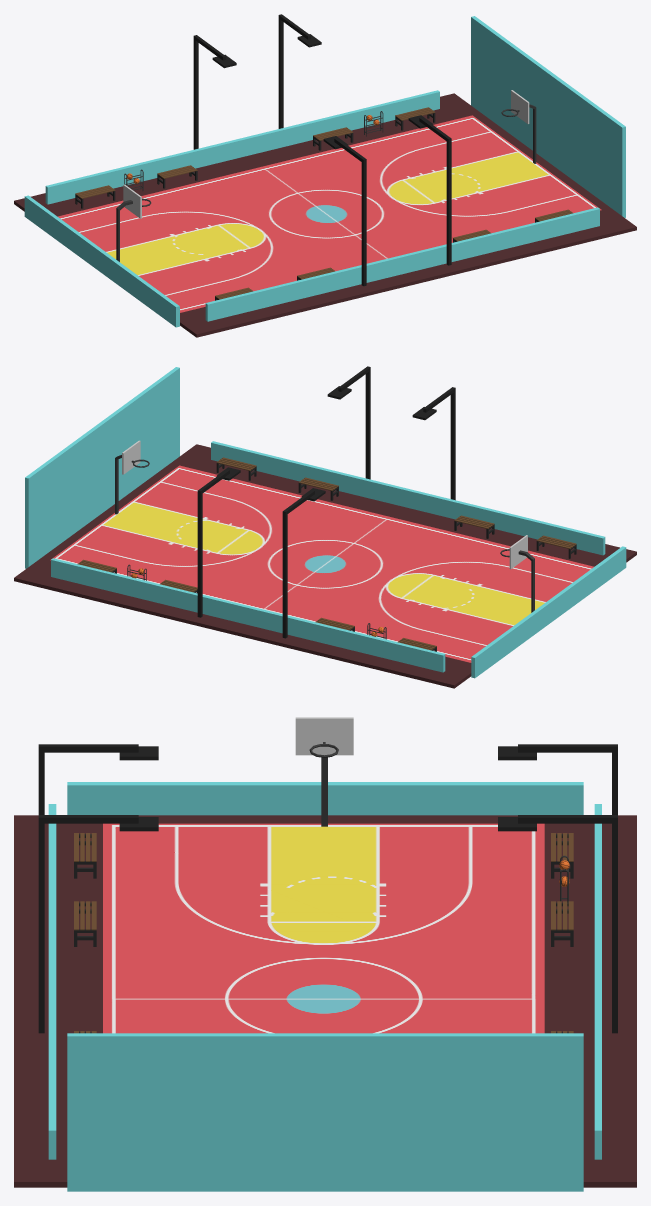
The model's file is D1_BASKETBALL_COURT.fbx.
3 views of the same model, one above another, from view 1: azimuth 30°, elevation 25°; view 2: azimuth 150°, elevation 25°; view 3: azimuth 270°, elevation 25° (orthographic). The views are drawn at different scales.
Visible parts, largest first — view 1: D1_CANCHA_BASKETBALL; view 2: D1_CANCHA_BASKETBALL; view 3: D1_CANCHA_BASKETBALL.
Part boxes in pixels (x1=…): D1_CANCHA_BASKETBALL: x1=14, y1=14, x2=636, y2=337; D1_CANCHA_BASKETBALL: x1=14, y1=366, x2=636, y2=688; D1_CANCHA_BASKETBALL: x1=14, y1=717, x2=636, y2=1191.
Bounding box in the file's own units: 3060 × 844 × 2150.
11 materials, 1 textured.
